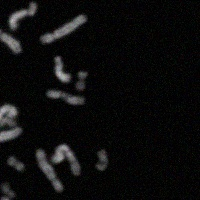chromosome: (40, 14, 85, 44), (36, 149, 63, 192), (52, 145, 81, 176), (9, 2, 37, 30), (0, 127, 22, 156), (0, 26, 21, 54), (46, 89, 84, 104), (0, 104, 16, 139), (53, 56, 70, 82), (7, 156, 24, 171), (95, 150, 107, 170), (75, 70, 86, 89), (1, 182, 14, 197), (0, 117, 17, 128), (1, 197, 38, 200)
